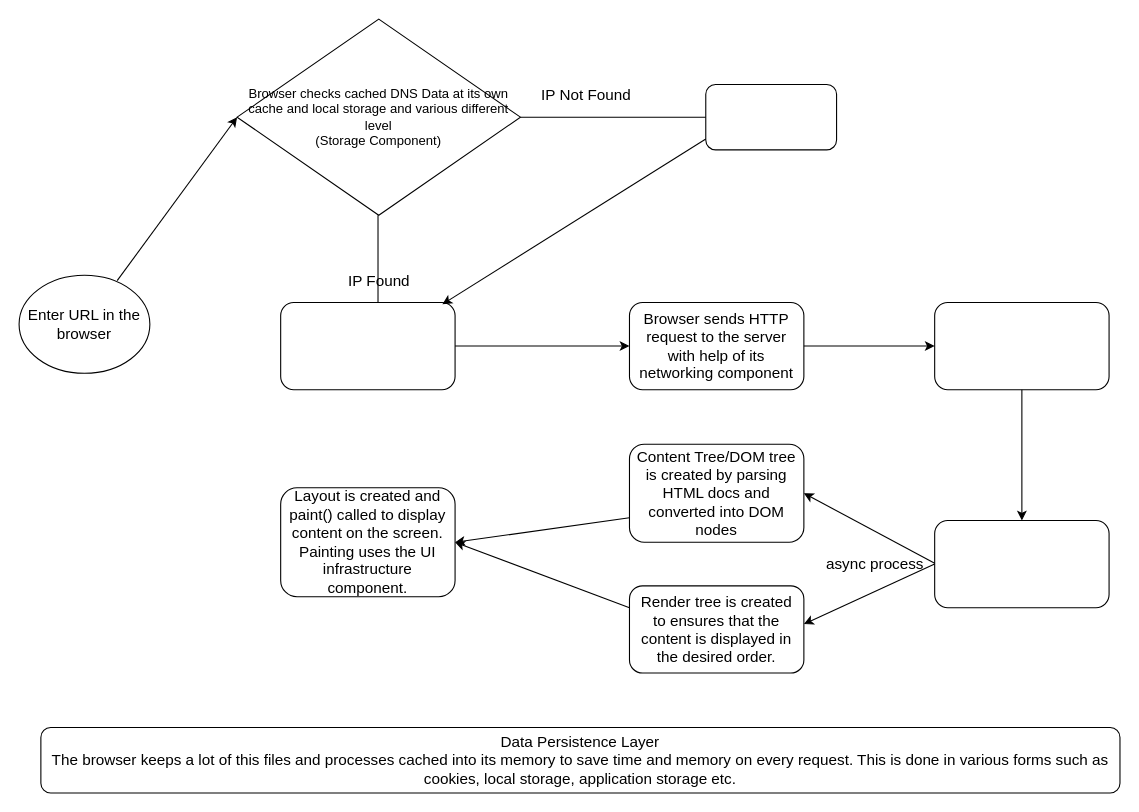
The diagram is 1139 pixels wide and 812 high, and some of its shapes have lost their labels. Each missing label, with the centre of its shape:
"Browser Initiates TCP Connection (Networking Component of Browser)" belongs at (367,345).
"Render Engine parses html/css docs" belongs at (1021,563).
"Server processes request and sends back a response (HTML/ PDF/URI)" belongs at (1021,345).
"Starts DNS lookup process and gets IP of server" belongs at (771,116).
